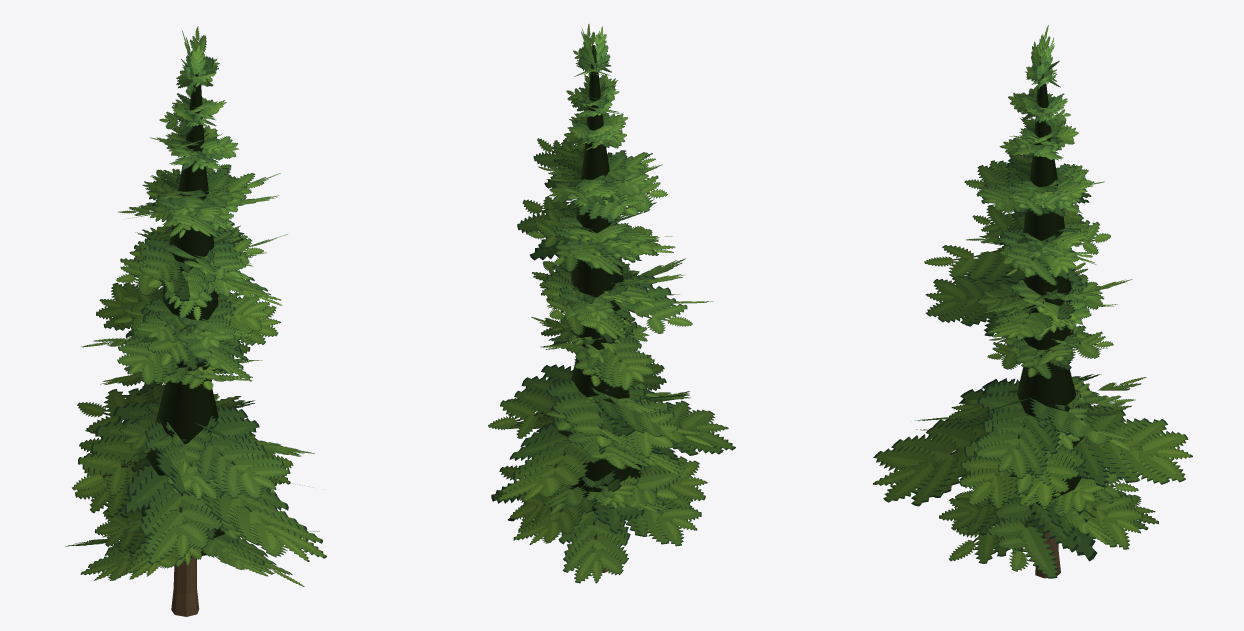
Rendered from fir4_b.glb.
The picture shows the model from 3 angles, left to right: view 1: azimuth 30°, elevation 25°; view 2: azimuth 150°, elevation 25°; view 3: azimuth 270°, elevation 25°; orthographic projection. The views are drawn at different scales.
Parts seen in each view (by area): view 1: fir4_b; view 2: fir4_b; view 3: fir4_b.
Part boxes in pixels (bbox=[...]): fir4_b: bbox=[65, 26, 326, 616]; fir4_b: bbox=[488, 24, 735, 583]; fir4_b: bbox=[873, 25, 1192, 578].
Size of the model in its own units: 4.67 by 8.15 by 5.47.
Materials: 2 (2 with a texture image).
